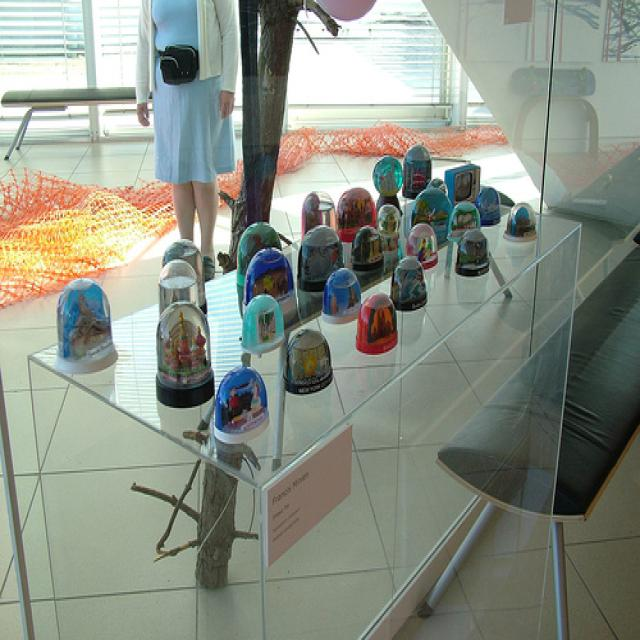person: (136, 1, 237, 283)
